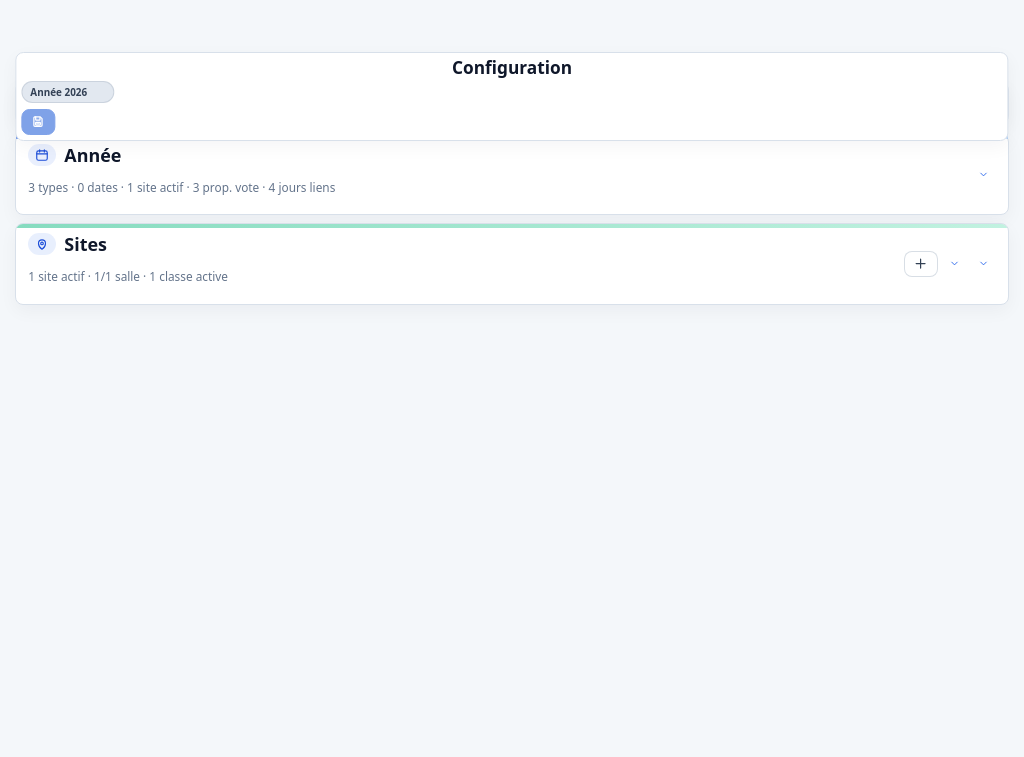
Test: PlanningConfiguration › replie un site en masquant son contenu
Click the button named "Ouvrir le bloc sites". click: (984, 264)
box: top-left (972, 252), bottom-right (996, 276)
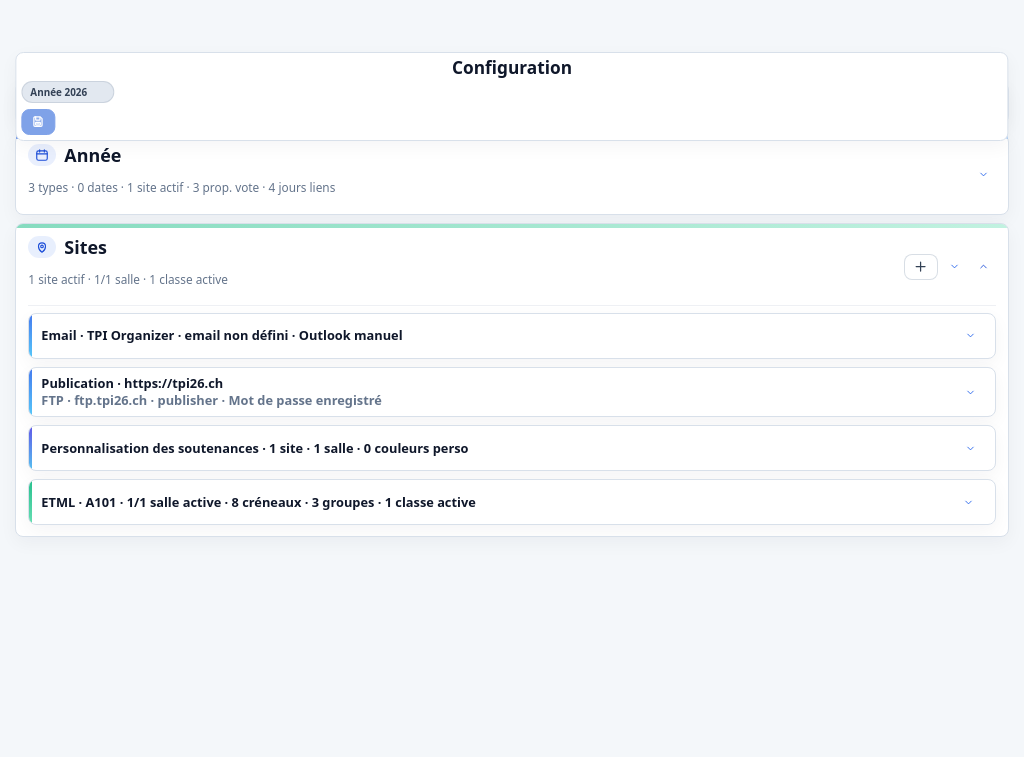
Click the button named "Ouvrir le site ETML". click: (969, 502)
box: top-left (957, 490), bottom-right (981, 514)
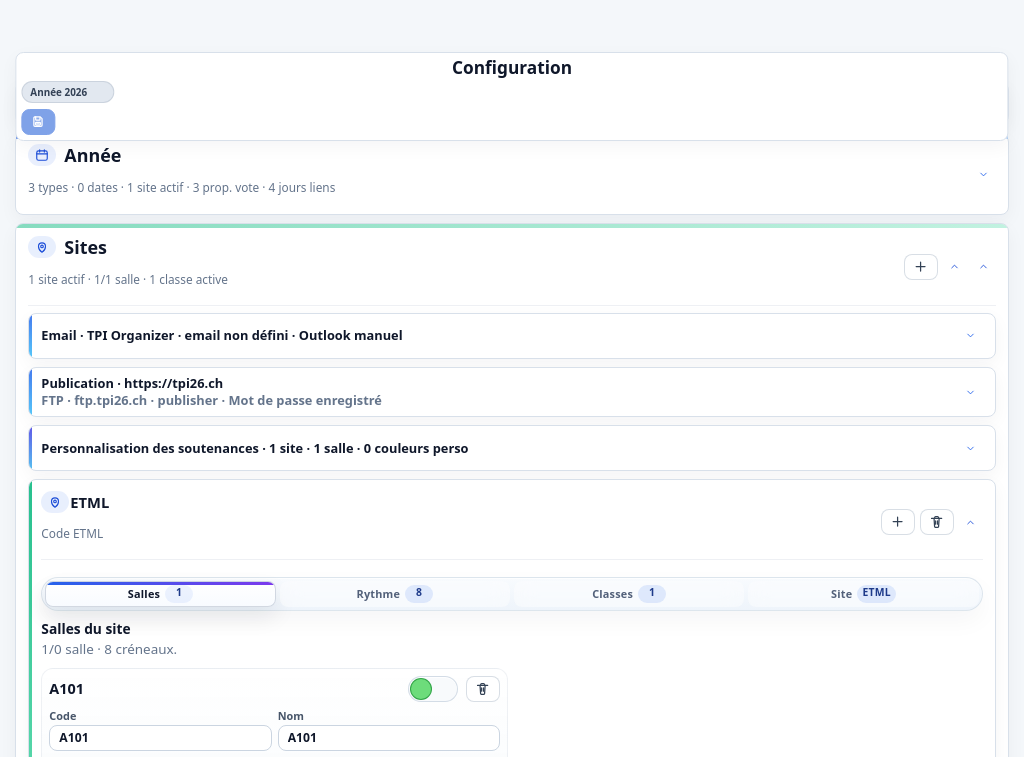
Expected: the button named "Réduire le site ETML" is shown
Click the button named "Réduire le site ETML". click: (971, 522)
box: top-left (959, 510), bottom-right (983, 534)
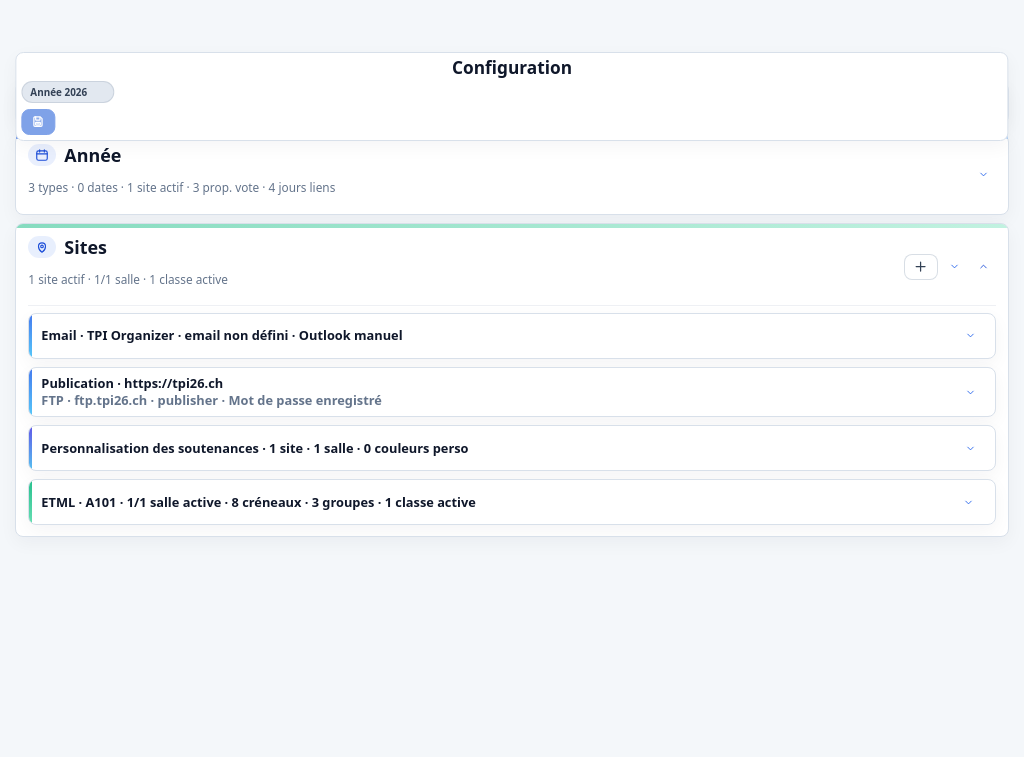
Expected: the button named "Ouvrir le site ETML" is shown, top-left (957, 490), bottom-right (981, 514)
Expected: the text "ETML · A101 · 1/1 salle active · 8 créneaux" is shown, top-left (41, 493), bottom-right (476, 511)
